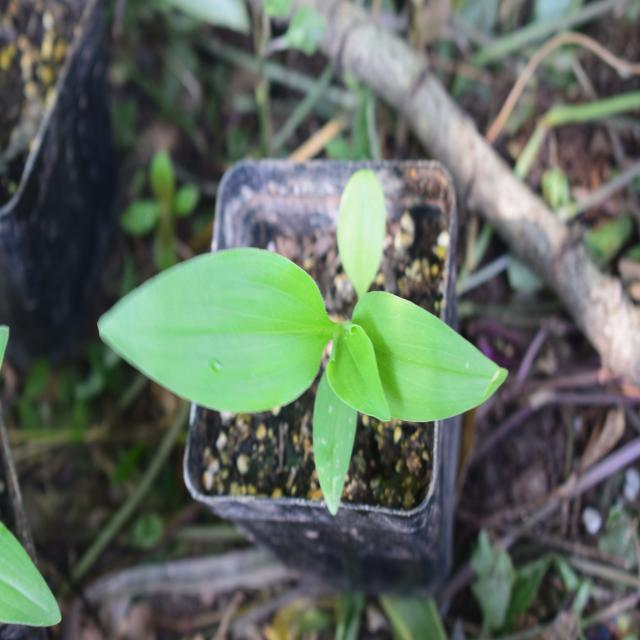Common Dayflower: (74, 192, 480, 496)
